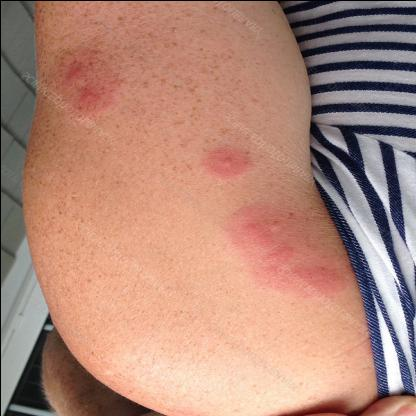Bed Bug: (222, 191, 344, 307), (56, 47, 118, 118), (195, 143, 269, 180)
